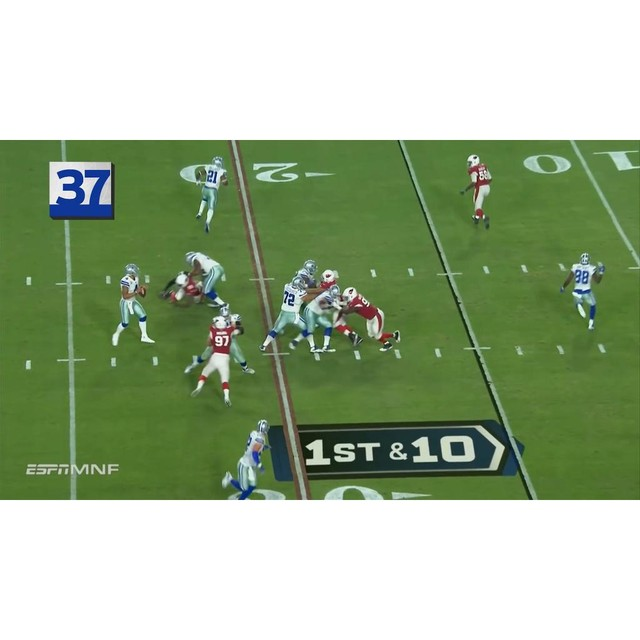american-football-player: (189, 308, 256, 375), (258, 273, 309, 354), (192, 316, 235, 408), (221, 421, 271, 500), (342, 288, 400, 351), (112, 265, 156, 347), (560, 253, 605, 331), (291, 284, 341, 353), (183, 249, 228, 310), (194, 157, 227, 233), (460, 155, 493, 229), (158, 270, 204, 306)
